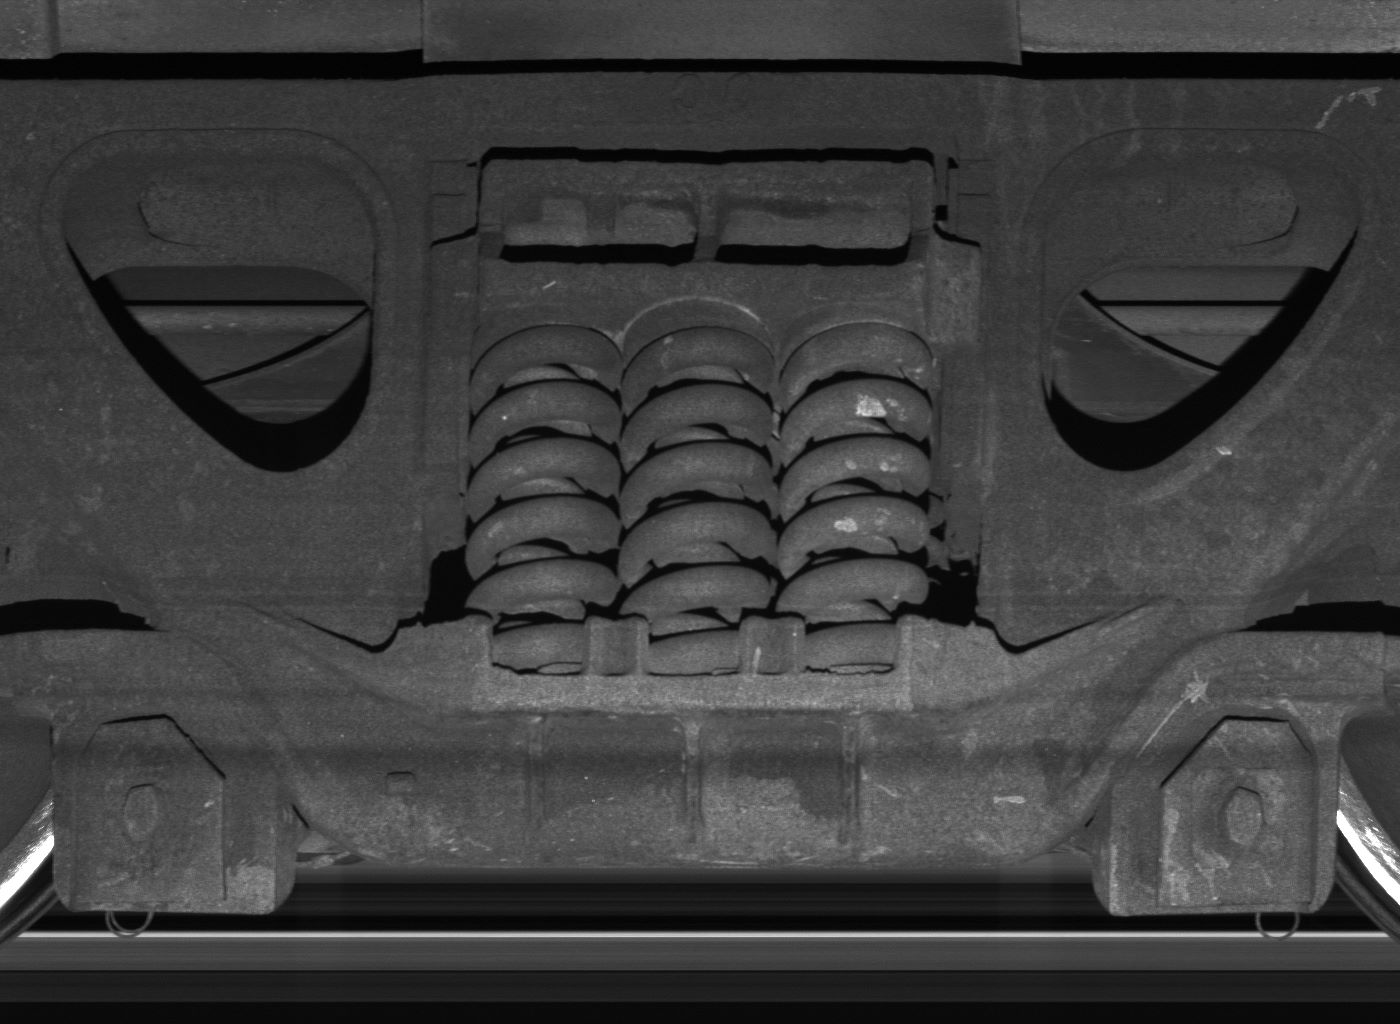normal: (1107, 708, 1335, 921), (51, 702, 280, 911)
